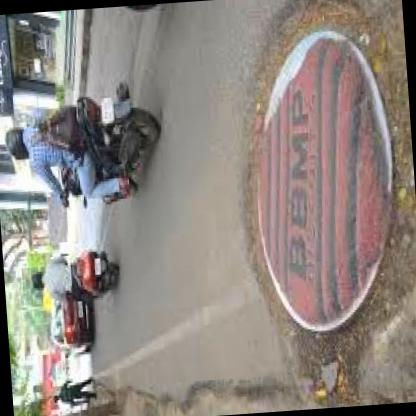manholes: (229, 14, 416, 353)
